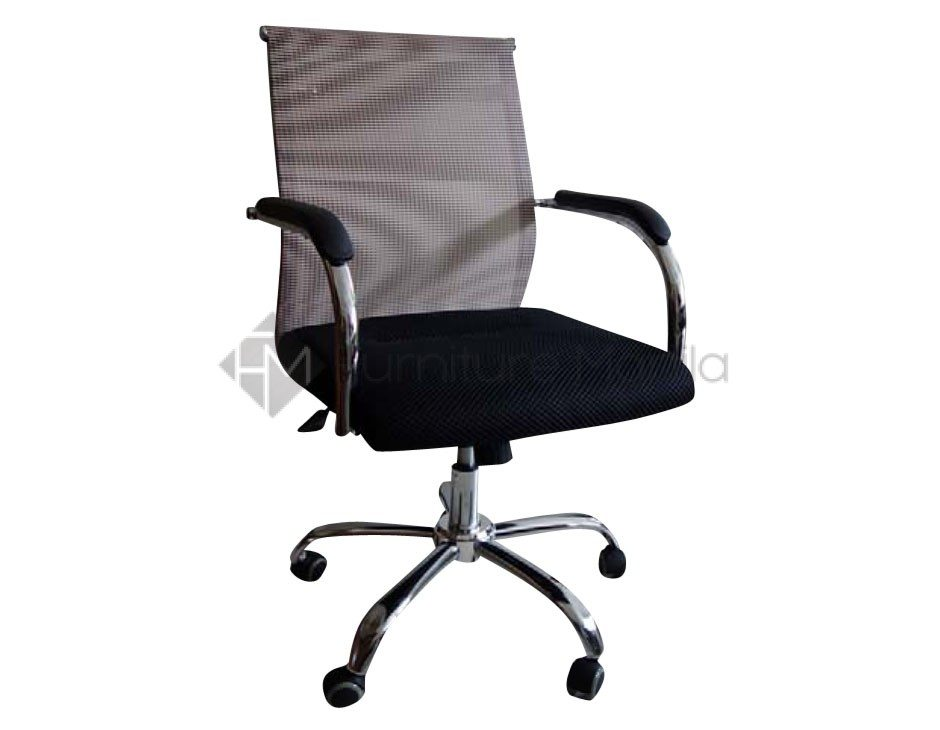chairs: (248, 18, 700, 715)
